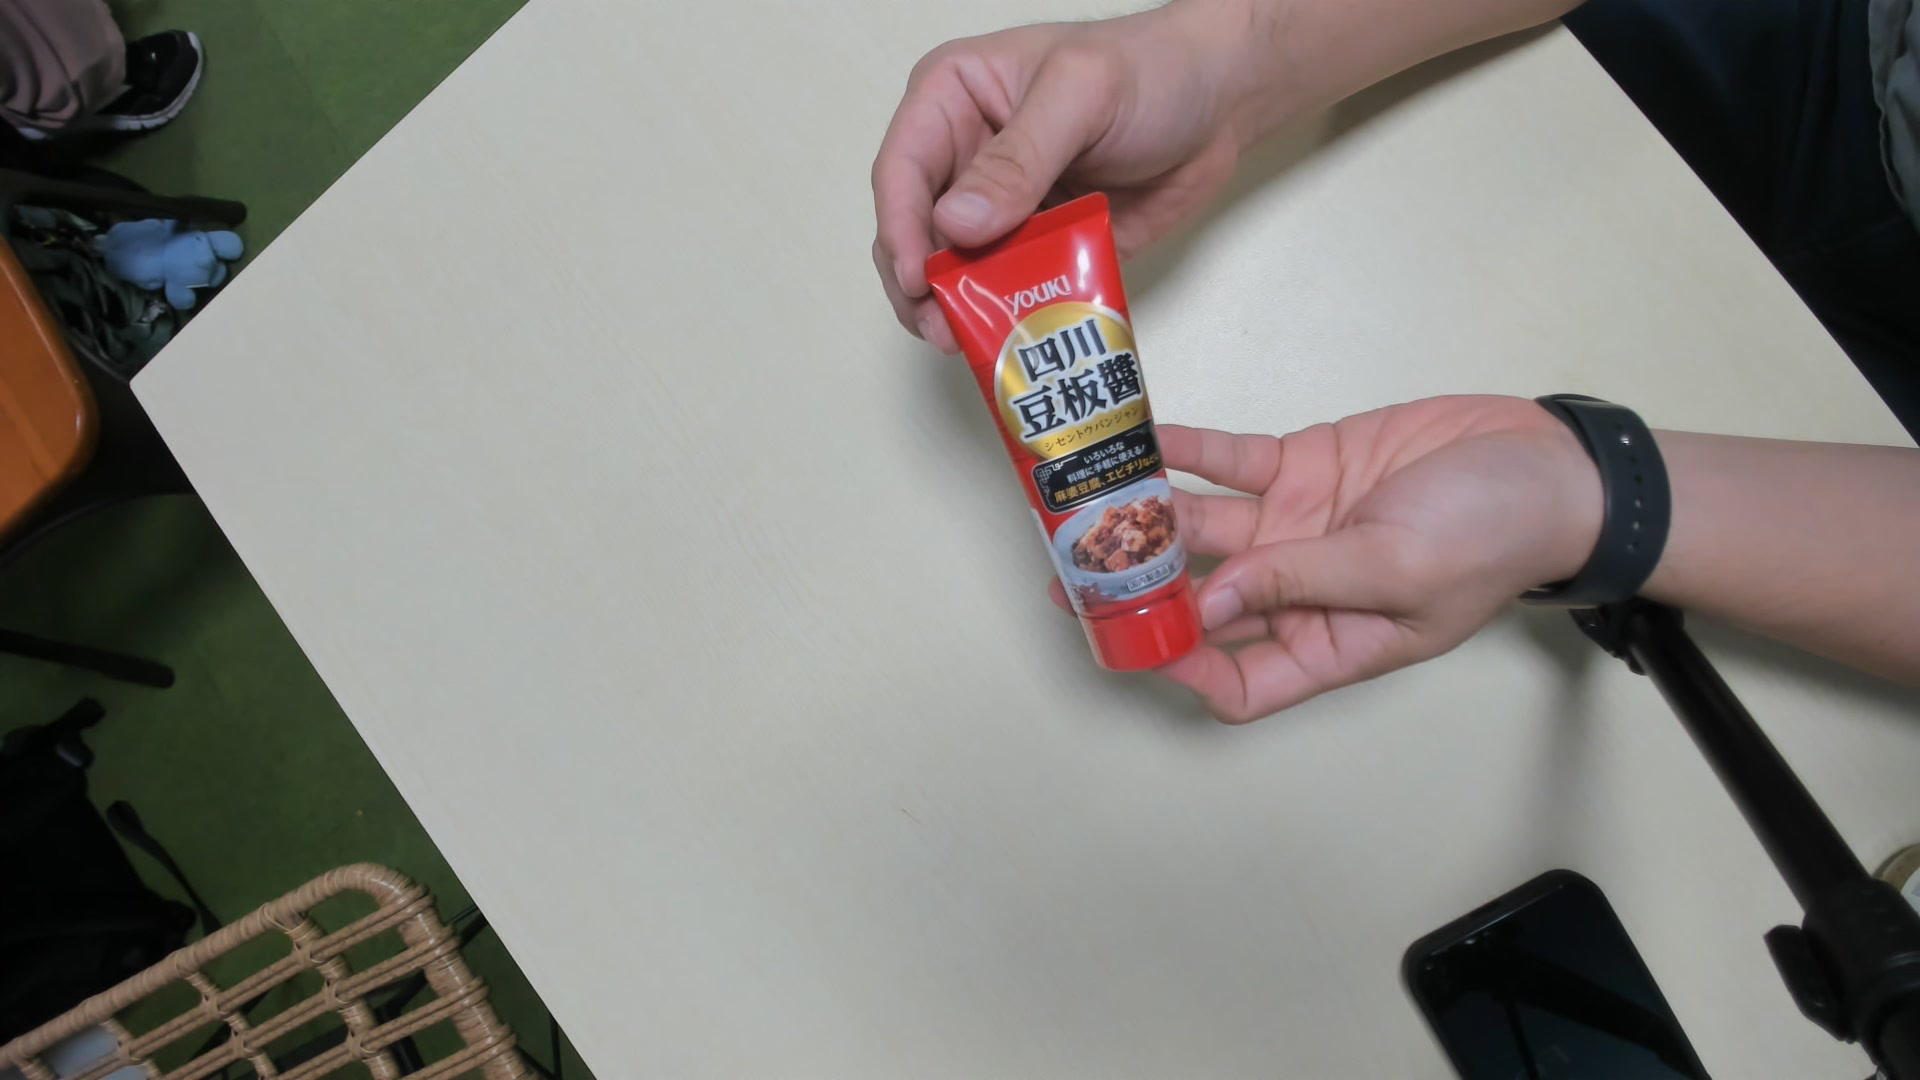OtherSauceDressing_100-199g_NonHalal_NonHealthy: (934, 187, 1213, 675)
